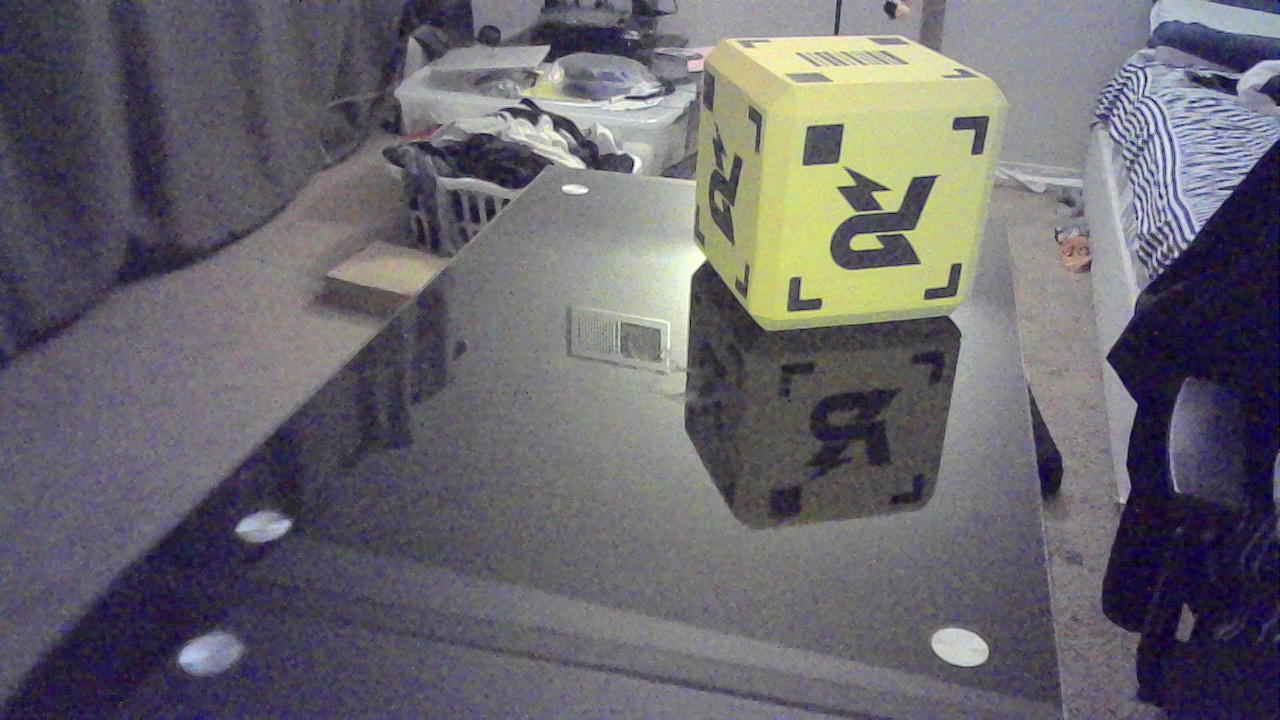Barcode: (801, 47, 924, 84)
R: (839, 163, 938, 277), (712, 132, 748, 258)
